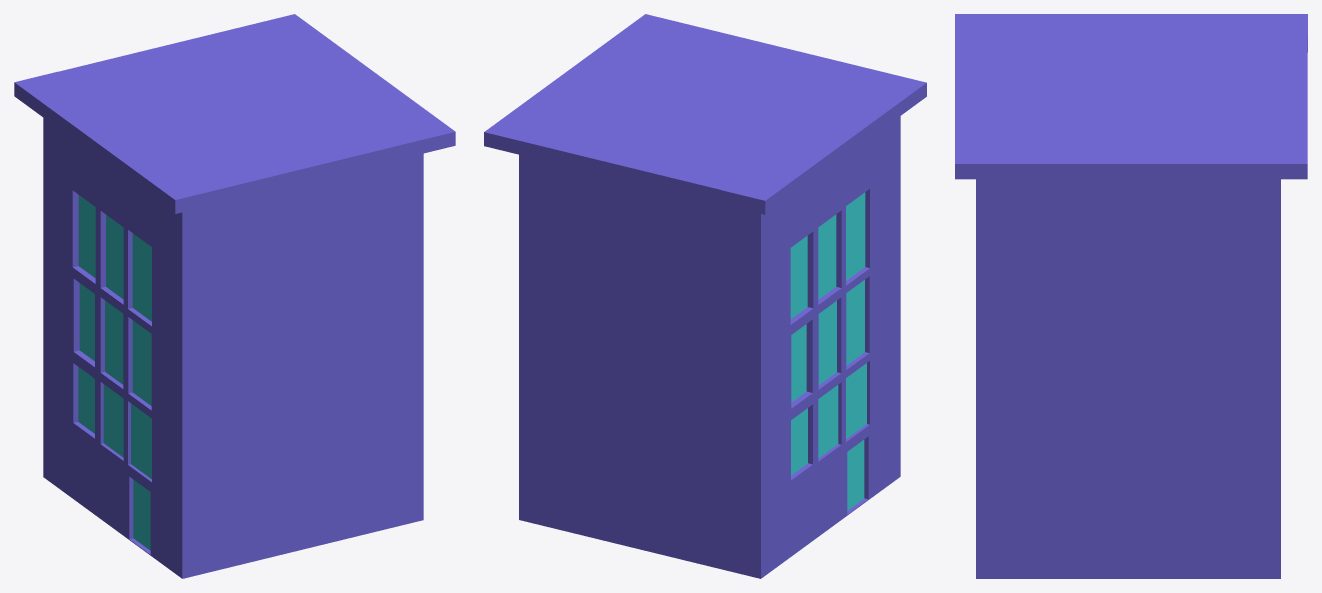
File: wafla4.fbx
3 views of the same model, side by side, from view 1: azimuth 30°, elevation 25°; view 2: azimuth 150°, elevation 25°; view 3: azimuth 270°, elevation 25° (orthographic). The views are drawn at different scales.
Visible parts, largest first — view 1: Cube, Cube.001, Cube.006, Cube.005, Cube.003, Cube.004, Cube.009, Cube.008, Cube.002, Cube.010, Cube.007; view 2: Cube, Cube.001, Cube.006, Cube.003, Cube.005, Cube.004, Cube.009, Cube.008, Cube.002, Cube.010, Cube.007; view 3: Cube.
Part boxes in pixels (x1,y1,x2,y2): Cube: (14,14,455,578); Cube.001: (132,233,151,321); Cube.006: (132,320,151,405); Cube.005: (105,300,123,384); Cube.003: (106,215,123,299); Cube.004: (78,195,95,277); Cube.009: (131,403,151,478); Cube.008: (103,384,123,457); Cube.002: (79,283,94,361); Cube.010: (133,479,150,550); Cube.007: (78,367,94,433); Cube: (484,14,926,578); Cube.001: (846,192,865,280); Cube.006: (846,280,864,365); Cube.003: (818,214,836,299); Cube.005: (818,301,836,384); Cube.004: (790,235,807,318); Cube.009: (846,363,866,438); Cube.008: (818,385,838,458); Cube.002: (791,324,806,402); Cube.010: (847,440,864,510); Cube.007: (791,408,807,475); Cube: (955,14,1307,578).
Size of the model in its own units: 233 by 309 by 231.
